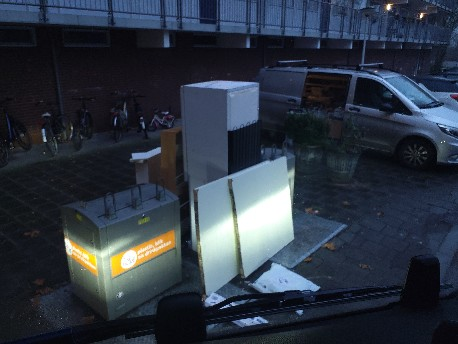Container: (76, 197, 192, 307)
Rest: (189, 171, 298, 249), (191, 83, 265, 172), (144, 128, 194, 189)
